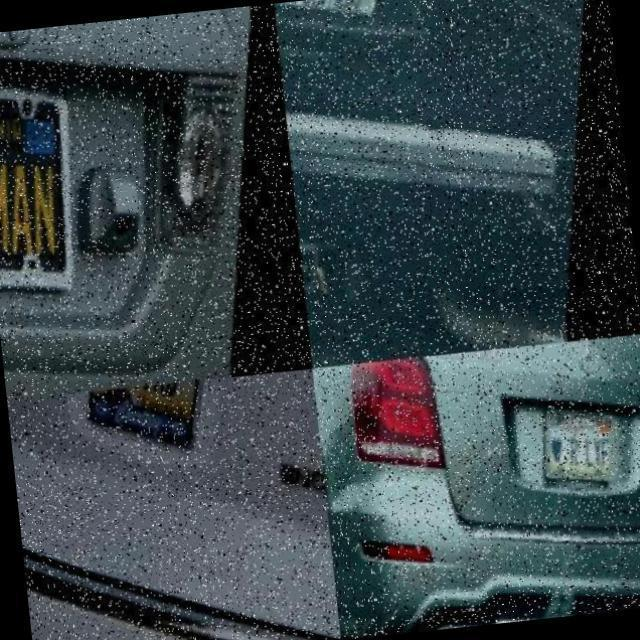License Plate: (0, 48, 112, 296), (86, 379, 220, 481), (272, 0, 408, 64), (536, 389, 628, 483)
